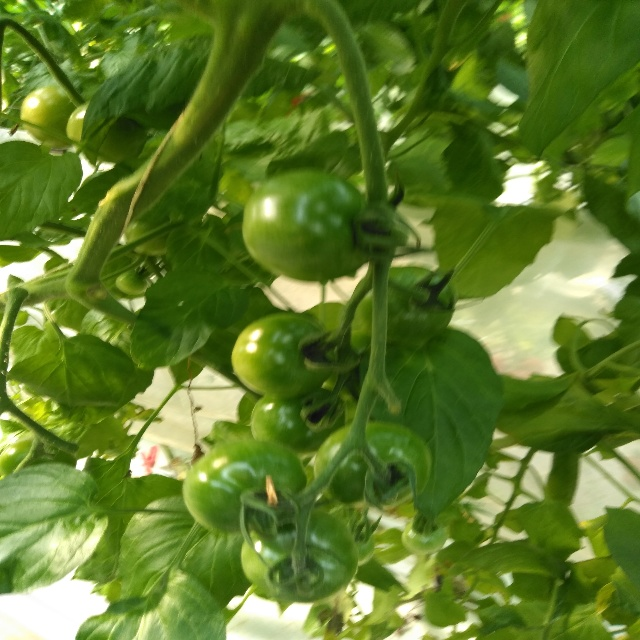l_green: (242, 169, 375, 281), (182, 440, 307, 534), (241, 507, 360, 605), (314, 421, 431, 505), (230, 314, 337, 396), (352, 264, 457, 343), (249, 387, 346, 455), (67, 99, 145, 163), (20, 85, 76, 150), (0, 437, 76, 476), (123, 222, 170, 258), (401, 519, 448, 554), (341, 519, 374, 565), (115, 269, 148, 295)
